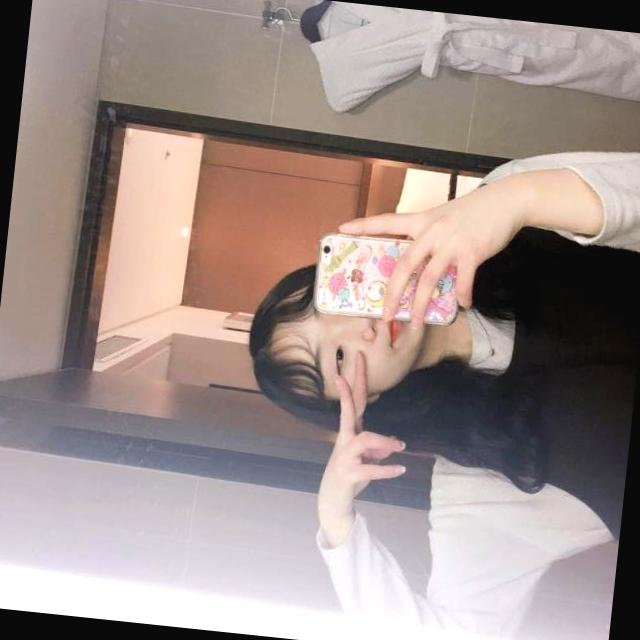lens_back: (321, 242, 333, 254)
phone: (313, 230, 464, 326)
